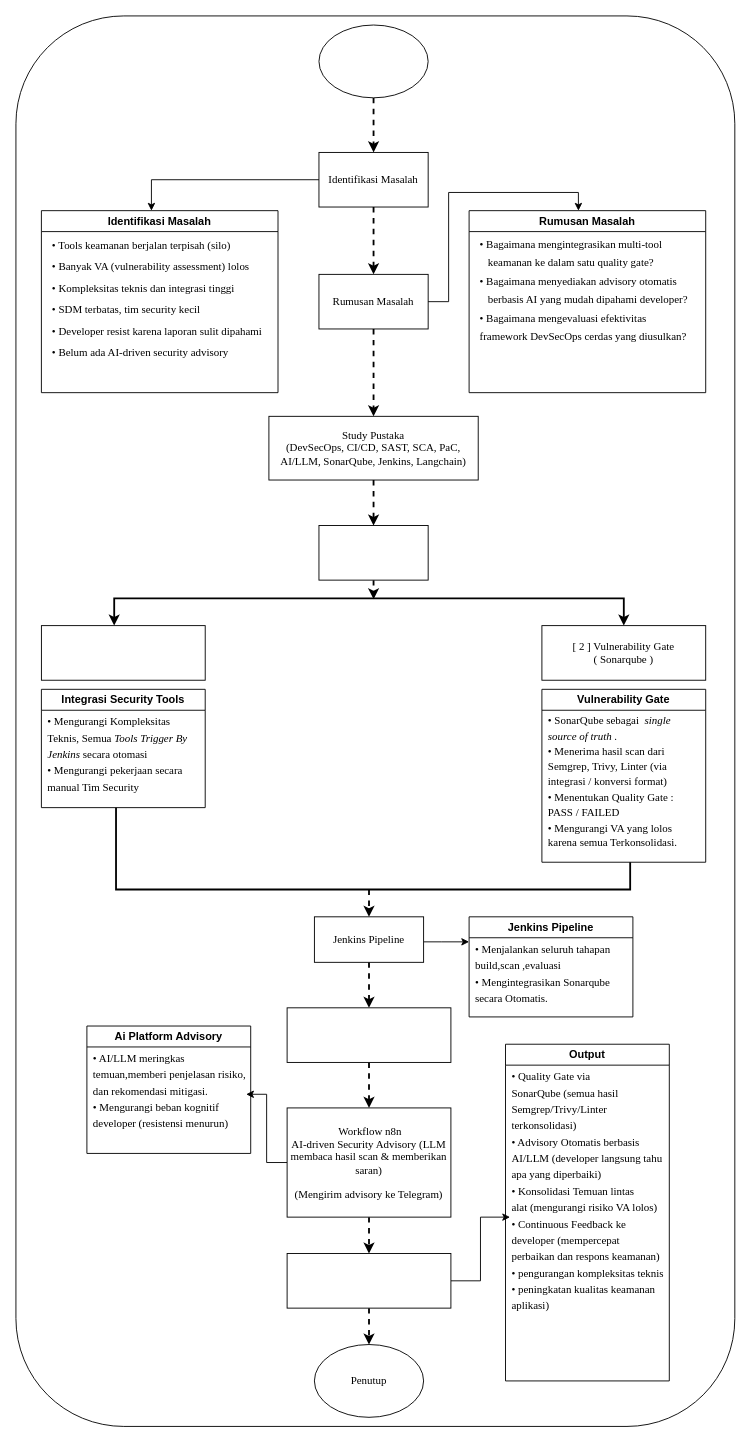
This 751x1442 diagram has some shape labels left out. Each missing label, with the centre of its shape:
"[ 1 ] Integrasi Security Tools ( Semgrep , Trivy , Linter Tools, Sonarqube )" belongs at (122,652).
"Hasil Pemindaian (Report terintegrasi SonarQube )" belongs at (368,1034).
"Intelligent DevSecOps Framework Output" belongs at (368,1280).
"Mulai" belongs at (373,61).
"Tahap Integrasi dan Automasi DevSecOps" belongs at (373,552).
